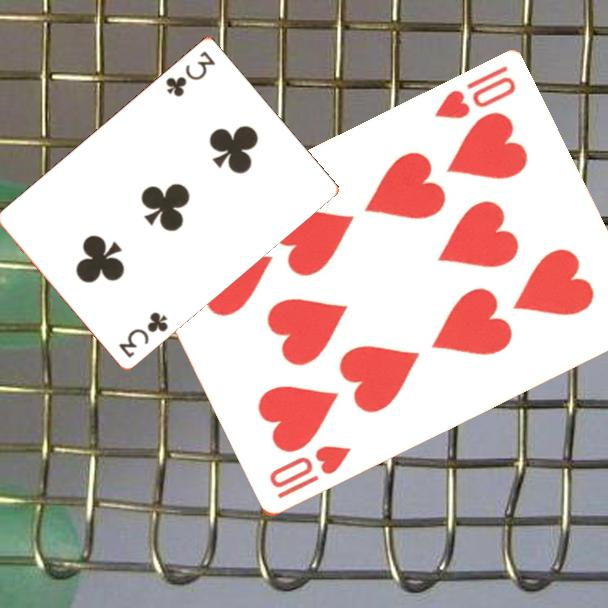c03: (115, 308, 171, 361), (162, 47, 218, 99)
h10: (431, 62, 519, 123), (265, 442, 354, 502)
